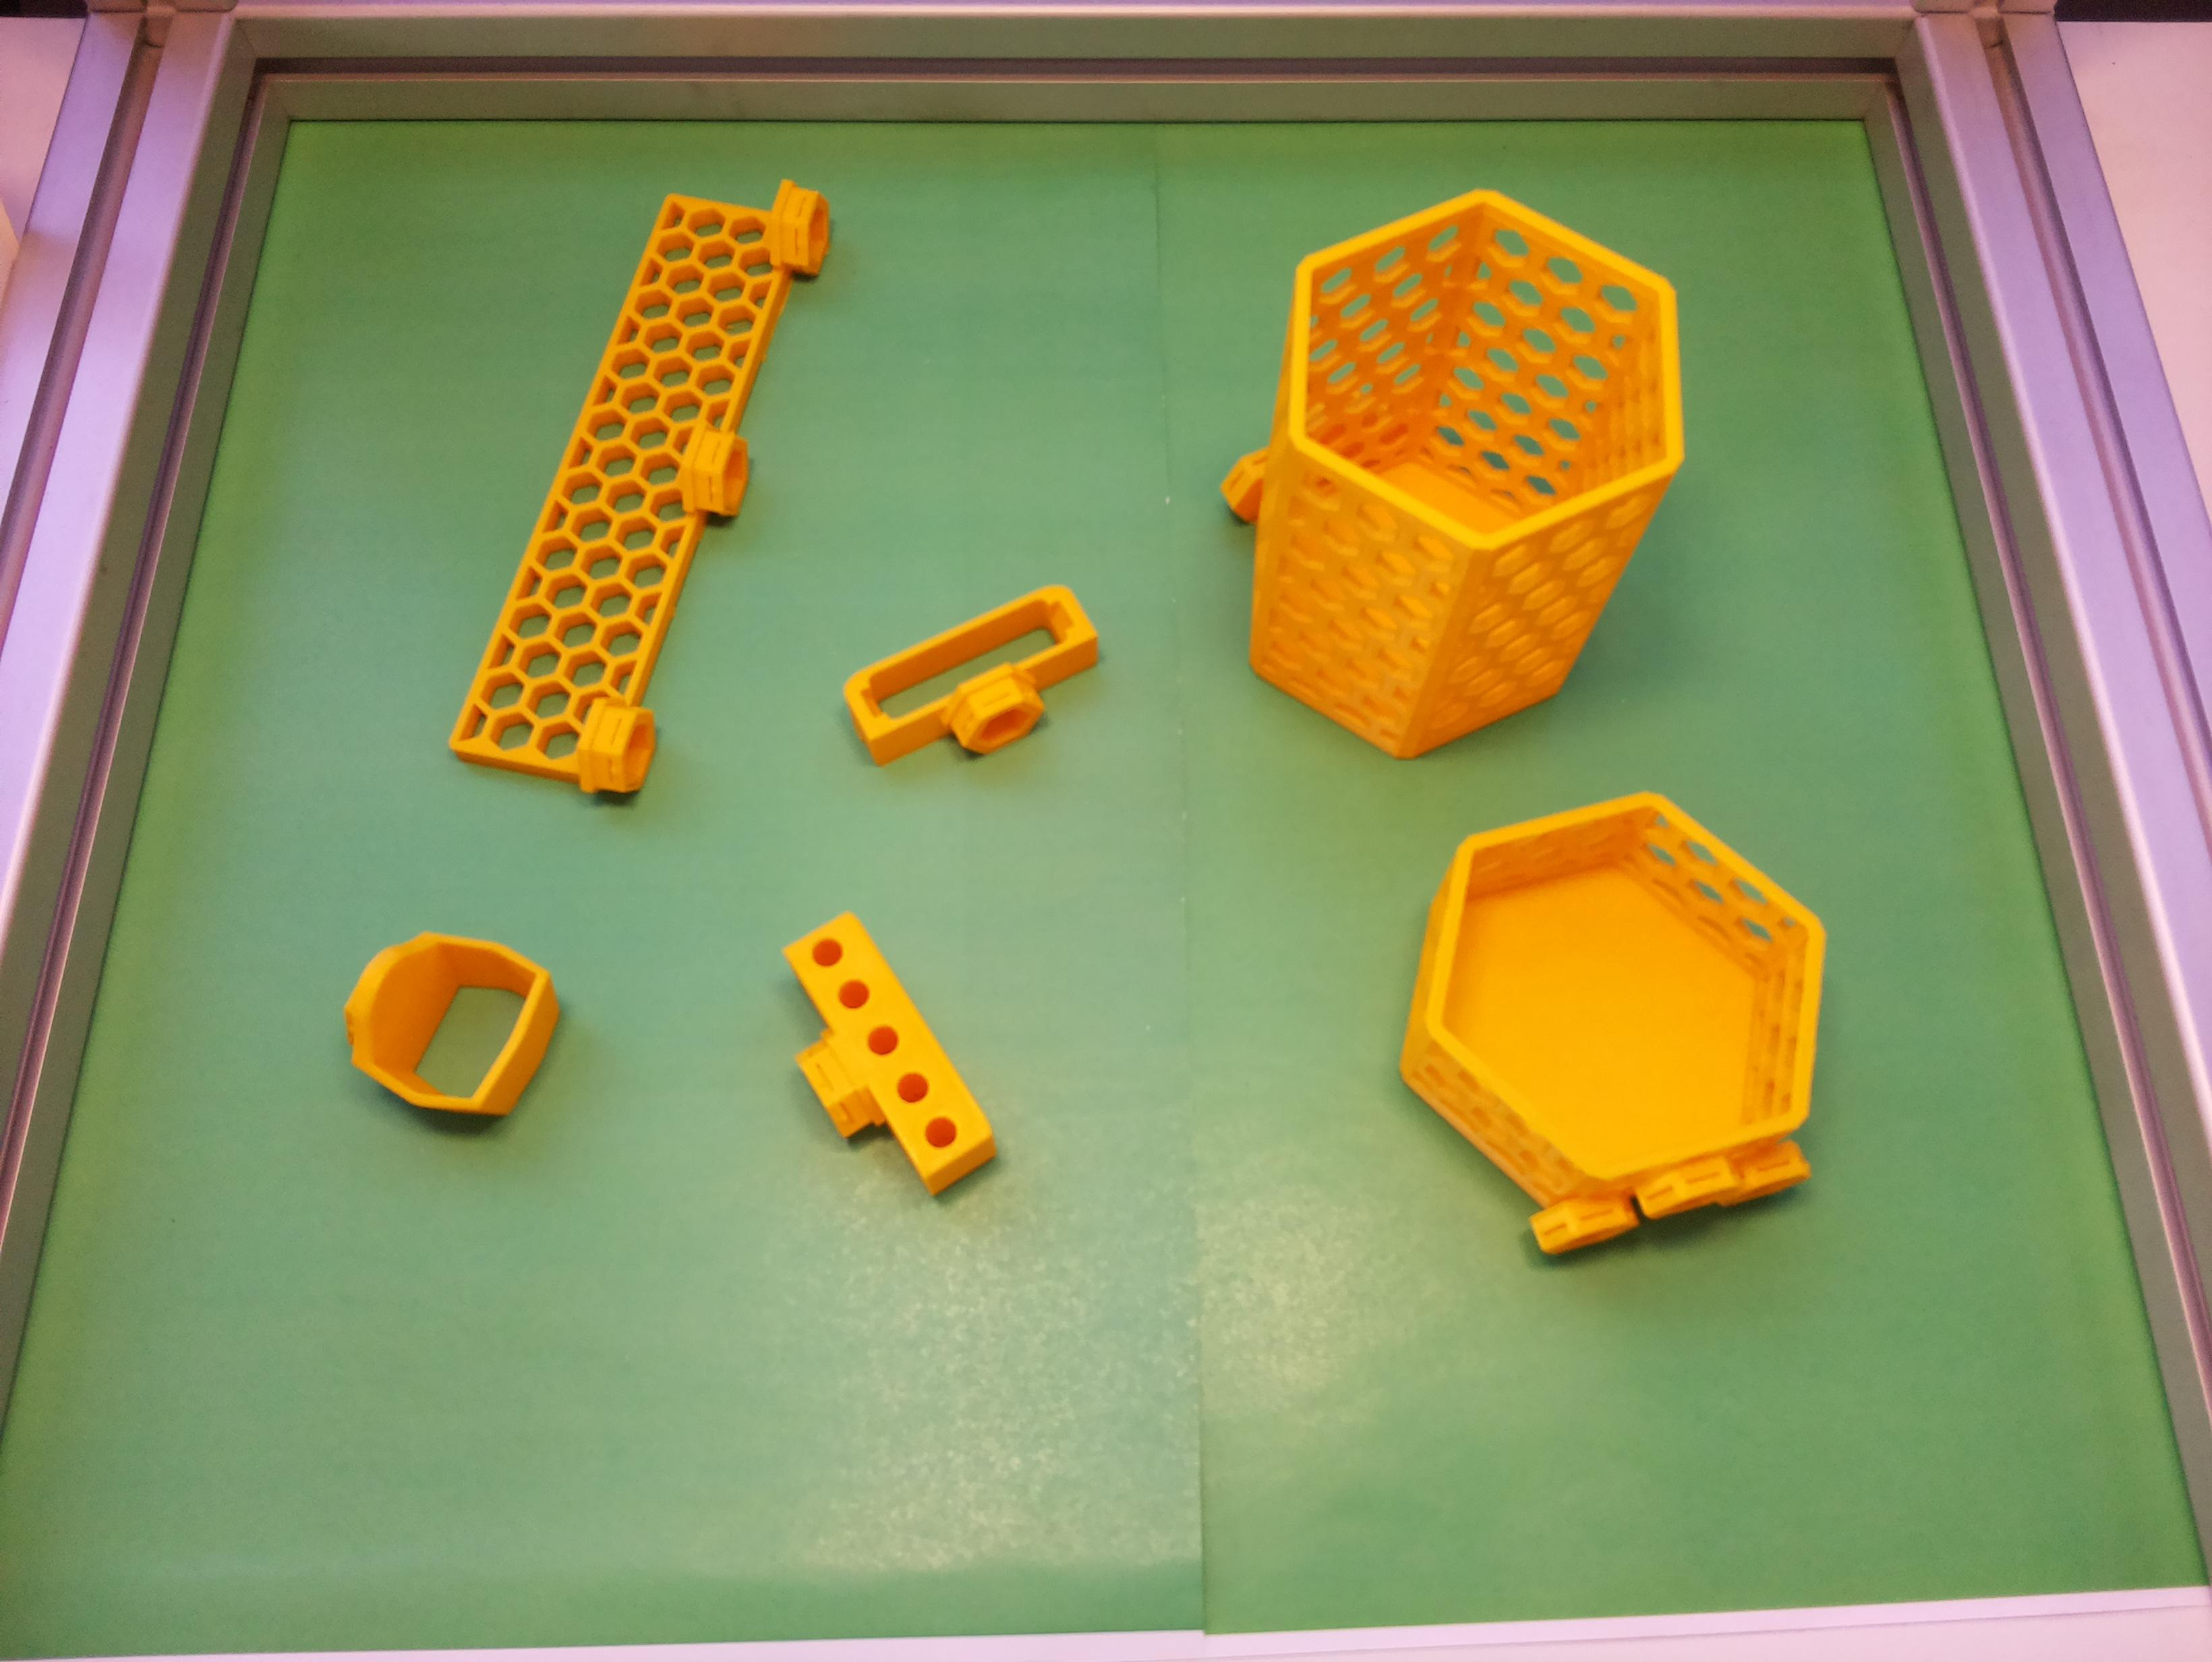bit_holder: (740, 906, 1007, 1220)
bottle_holder: (1344, 751, 1889, 1283)
cup_holder: (1121, 127, 1755, 812)
cutter_holder: (833, 569, 1123, 801)
scissor_holder: (319, 894, 580, 1149)
tool_holder: (443, 138, 859, 822)
